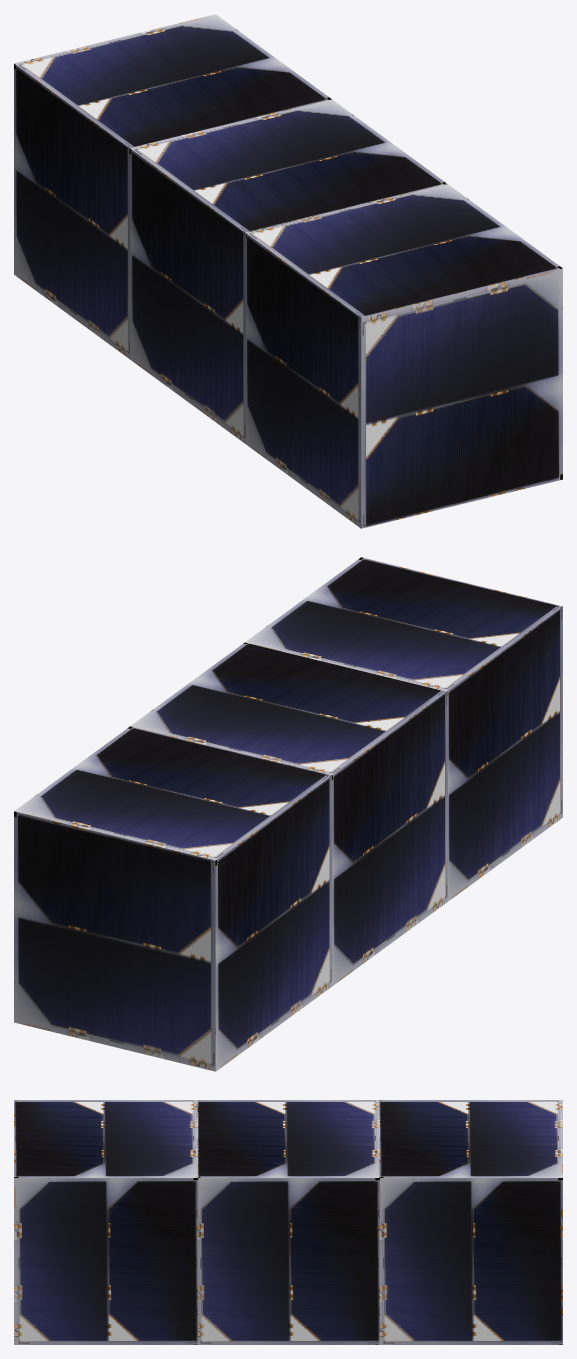
File: simple3U.dae
The picture shows the model from 3 angles, top to bottom: view 1: azimuth 30°, elevation 25°; view 2: azimuth 150°, elevation 25°; view 3: azimuth 270°, elevation 25°; orthographic projection. The views are drawn at different scales.
Parts seen in each view (by area): view 1: Cube_002, Cube, Cube_001; view 2: Cube_001, Cube_002, Cube; view 3: Cube_002, Cube_001, Cube.
Boxes of the visible parts, box(x1,y1,x2,y2) form: Cube_002: box(245, 183, 562, 528); Cube: box(129, 99, 446, 444); Cube_001: box(14, 14, 331, 359); Cube_001: box(14, 726, 332, 1071); Cube_002: box(245, 557, 562, 901); Cube: box(130, 642, 447, 985); Cube_002: box(14, 1100, 198, 1344); Cube_001: box(378, 1100, 562, 1344); Cube: box(195, 1100, 379, 1344).
Bounding box in the file's own units: 2 × 5.96 × 2.
3 materials, 3 textured.
